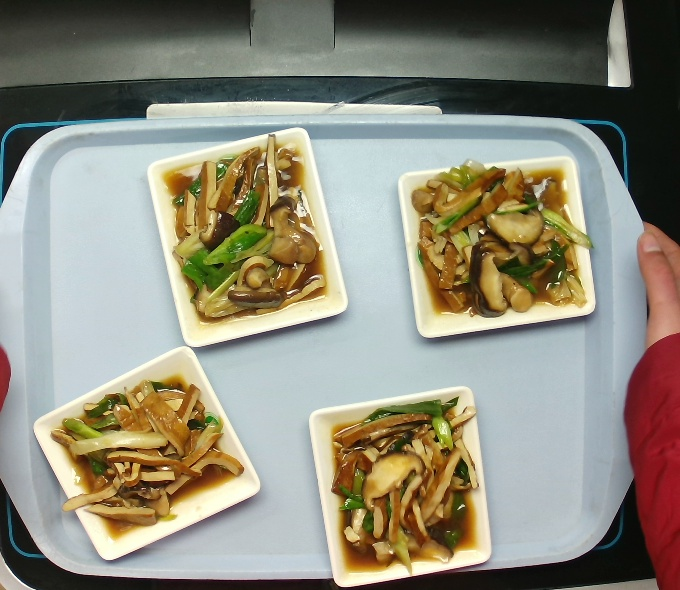wcq-XiangGuChaoXiangGan: (164, 135, 336, 326), (403, 157, 595, 324), (44, 373, 245, 529), (328, 390, 489, 584)
